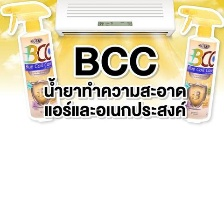bottle: (0, 2, 63, 122), (176, 4, 224, 126)
